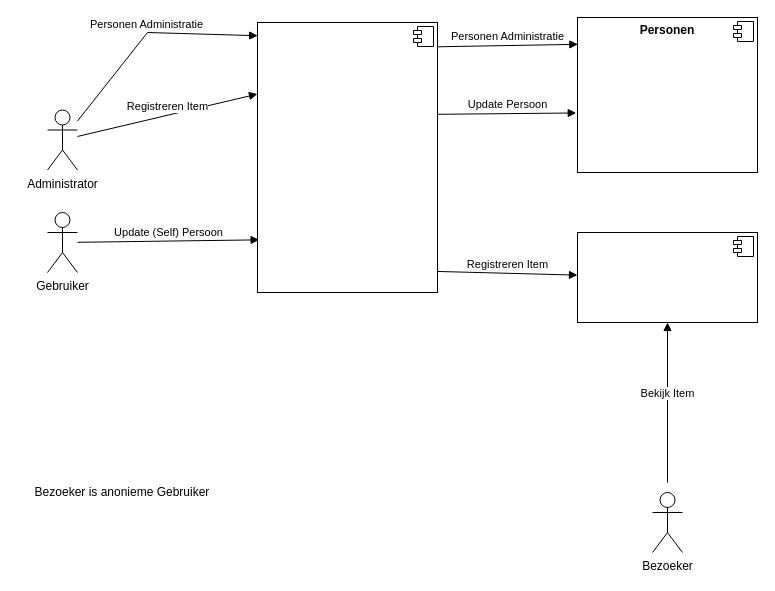
This 775x591 diagram has some shape labels left out. The box of each missing label's shape, as (x1, y1, x2, y2) in pixels:
Eventstore: (256, 22, 438, 292)
Item: (576, 232, 758, 322)
